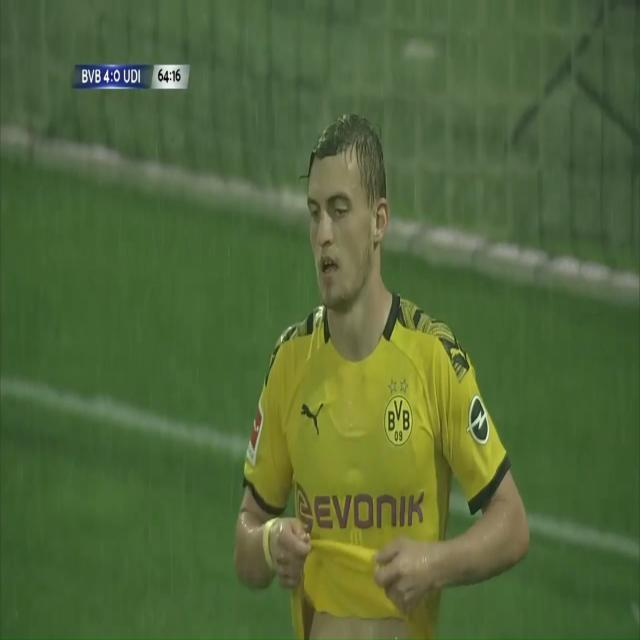player: (233, 73, 530, 640)
